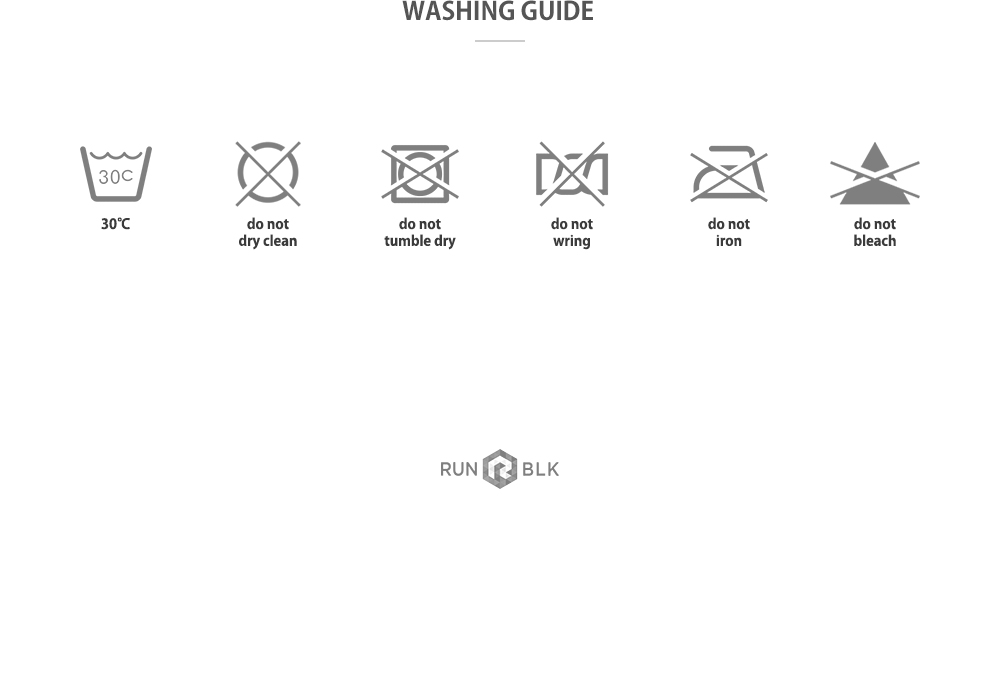do_not_bleach: (834, 139, 921, 212)
do_not_dry_clean: (232, 135, 304, 211)
do_not_iron: (689, 140, 767, 207)
